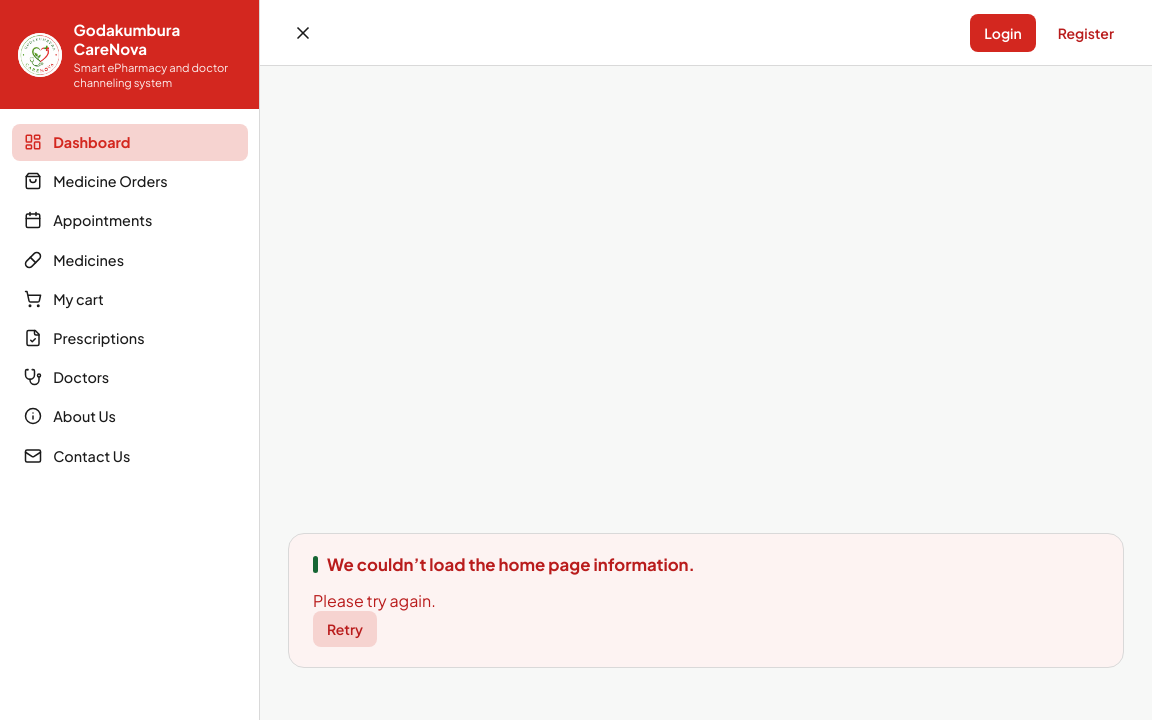
a failed home request can be retried
(page scrolled)
Click the button "Retry".
click(345, 629)  # box [313,611,377,647]
(page scrolled)
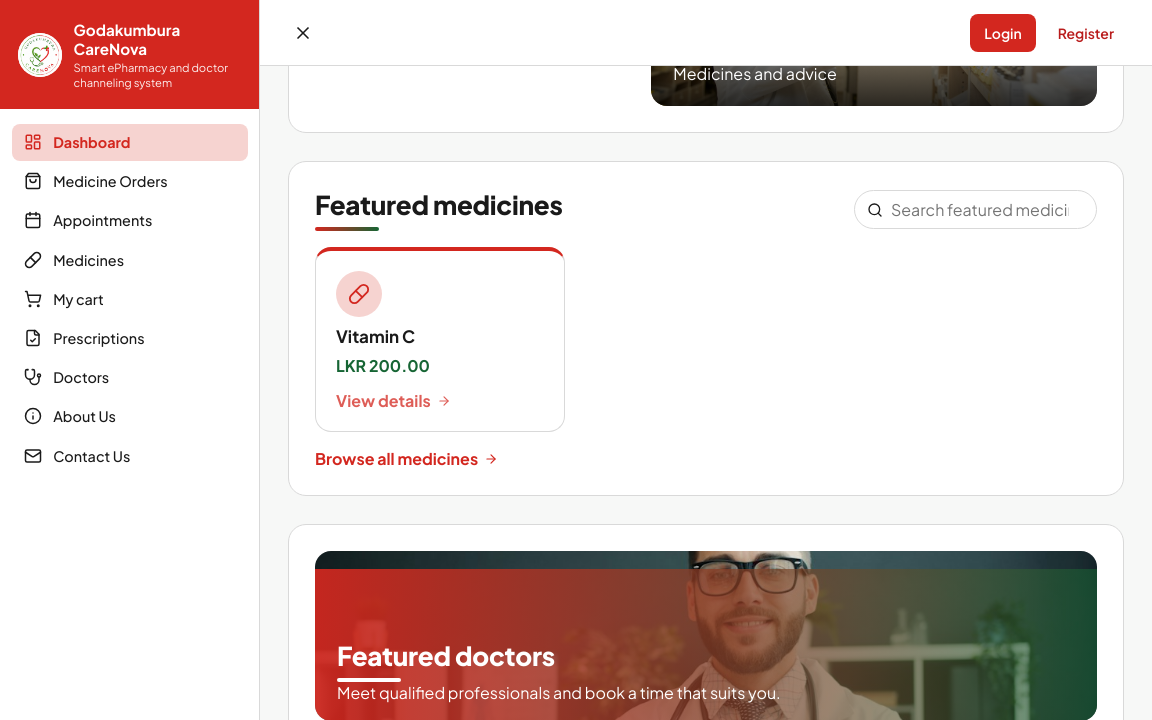
Check: the heading "Vitamin C" is shown, box [336,325,415,347]
